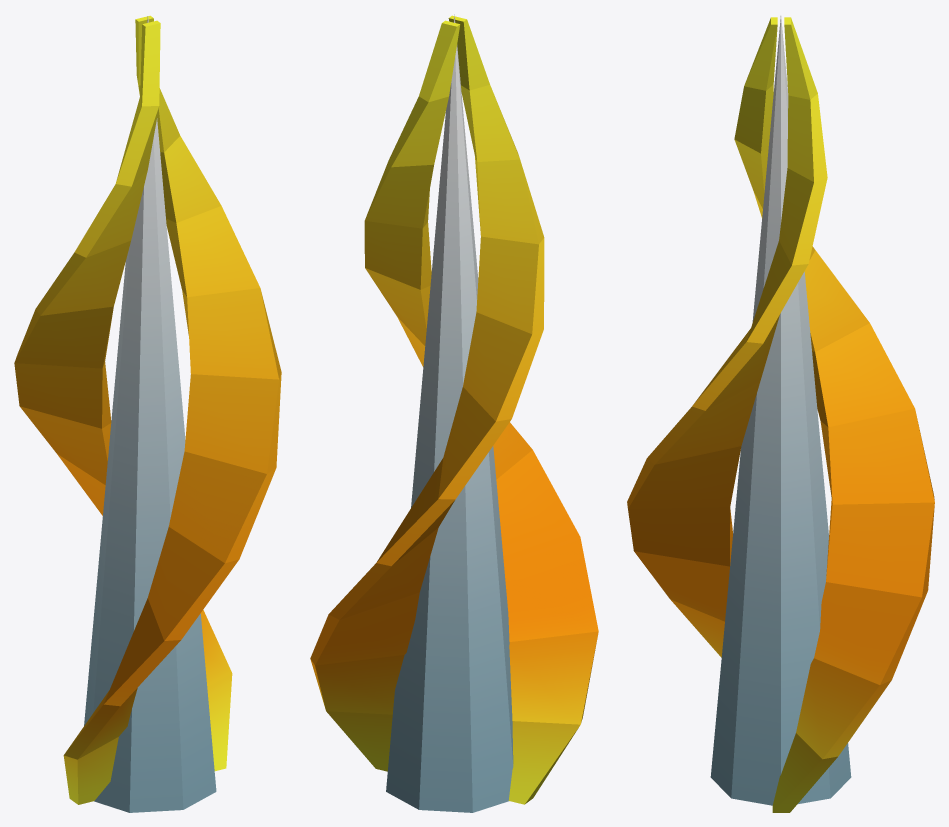
File: Monument_Production.fbx
The picture shows the model from 3 angles, left to right: view 1: azimuth 30°, elevation 25°; view 2: azimuth 150°, elevation 25°; view 3: azimuth 270°, elevation 25°; orthographic projection.
Parts seen in each view (by area): view 1: Monument_Production; view 2: Monument_Production; view 3: Monument_Production.
Boxes of the visible parts, left/top/right/bottom form: Monument_Production: left=14, top=15, right=281, bottom=812; Monument_Production: left=310, top=14, right=598, bottom=812; Monument_Production: left=627, top=16, right=934, bottom=812.
Size of the model in its own units: 502 by 1753 by 641.
